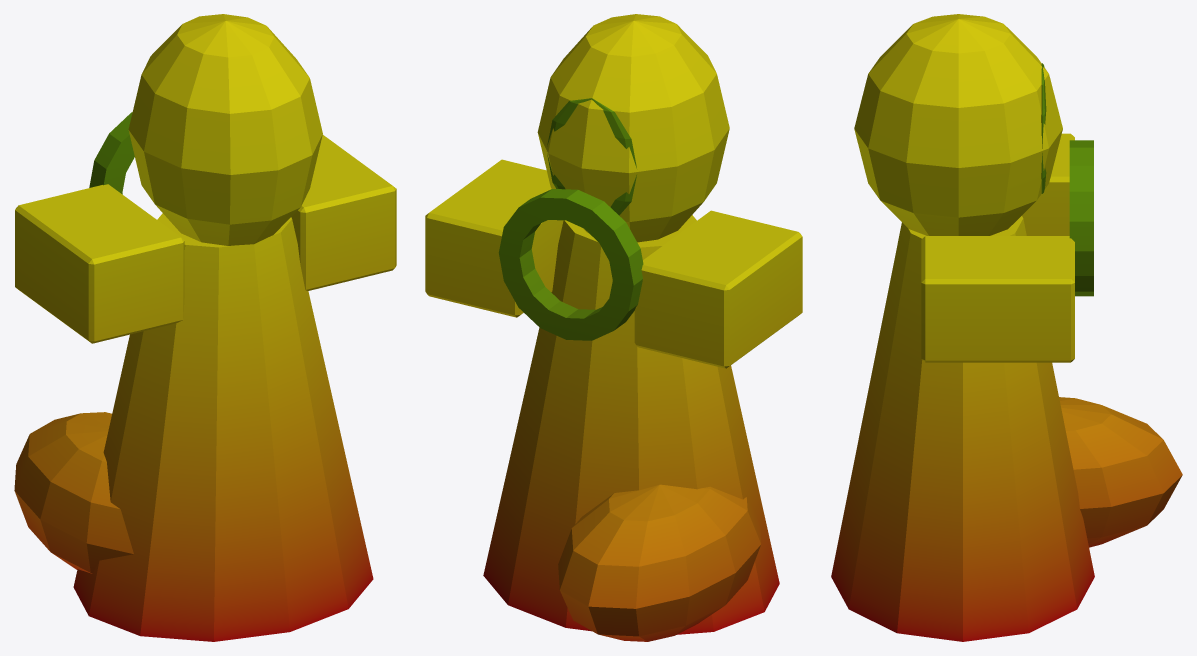
The model's file is statue_kneel.glb.
3 renders of one model, left to right at view 1: azimuth 30°, elevation 25°; view 2: azimuth 150°, elevation 25°; view 3: azimuth 270°, elevation 25°, orthographic.
Visible parts, largest first — view 1: statue_kneel; view 2: statue_kneel; view 3: statue_kneel.
Boxes of the visible parts, x1,y1,x2,y2 form: statue_kneel: (14,14,396,641); statue_kneel: (425,14,802,641); statue_kneel: (831,14,1182,641).
Size of what is drawn, in the model's own units: 1.6 by 2.8 by 1.6.
